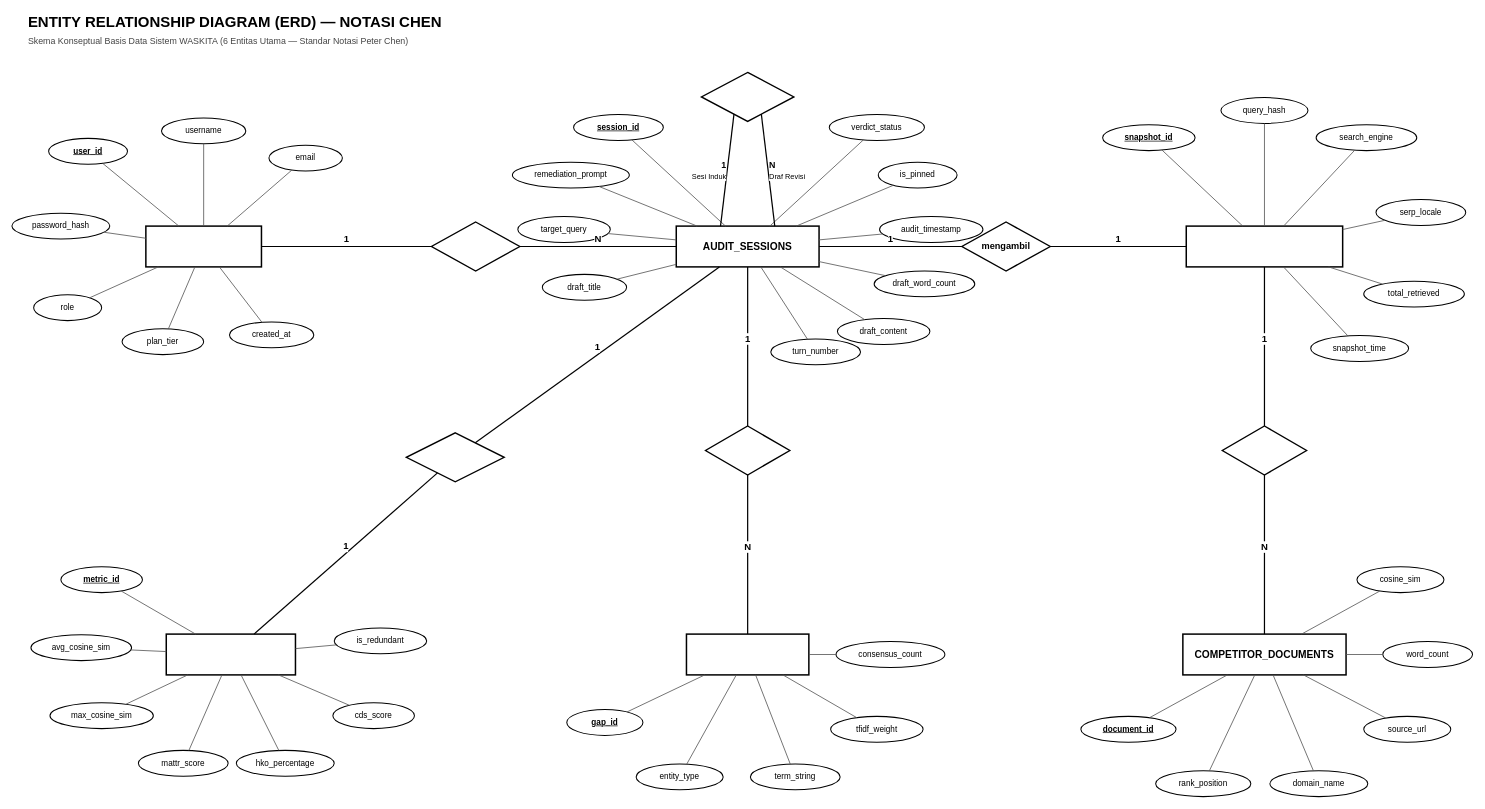
The diagram is 1485 pixels wide and 809 high, and some of its shapes have lost their labels. The centre of each missing label's shape, as x and y in pixels:
"COMPETITOR_SNAPSHOTS" goes at point 1264,246.
"ENTITY_GAPS" goes at point 747,654.
"melakukan" goes at point 475,246.
"memiliki" goes at point 747,450.
"memuat" goes at point 1264,450.
"menghasilkan" goes at point 455,457.
"merevisi" goes at point 747,96.
"METRIC_RESULTS" goes at point 230,654.
"USERS" goes at point 203,246.
